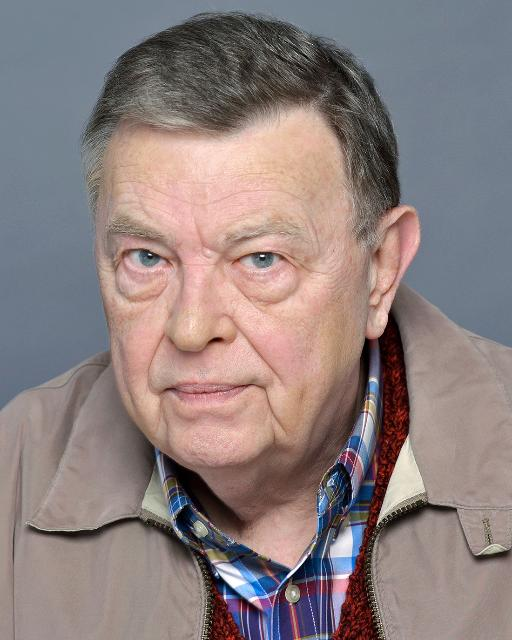crows_feet: (289, 252, 321, 280), (104, 252, 124, 276)
forehead: (222, 183, 266, 205), (126, 175, 162, 199)
frown_line: (186, 223, 214, 251)
gummy_smile: (233, 318, 273, 378), (144, 336, 168, 376)
sad_smile: (262, 391, 284, 439), (152, 397, 170, 437)
